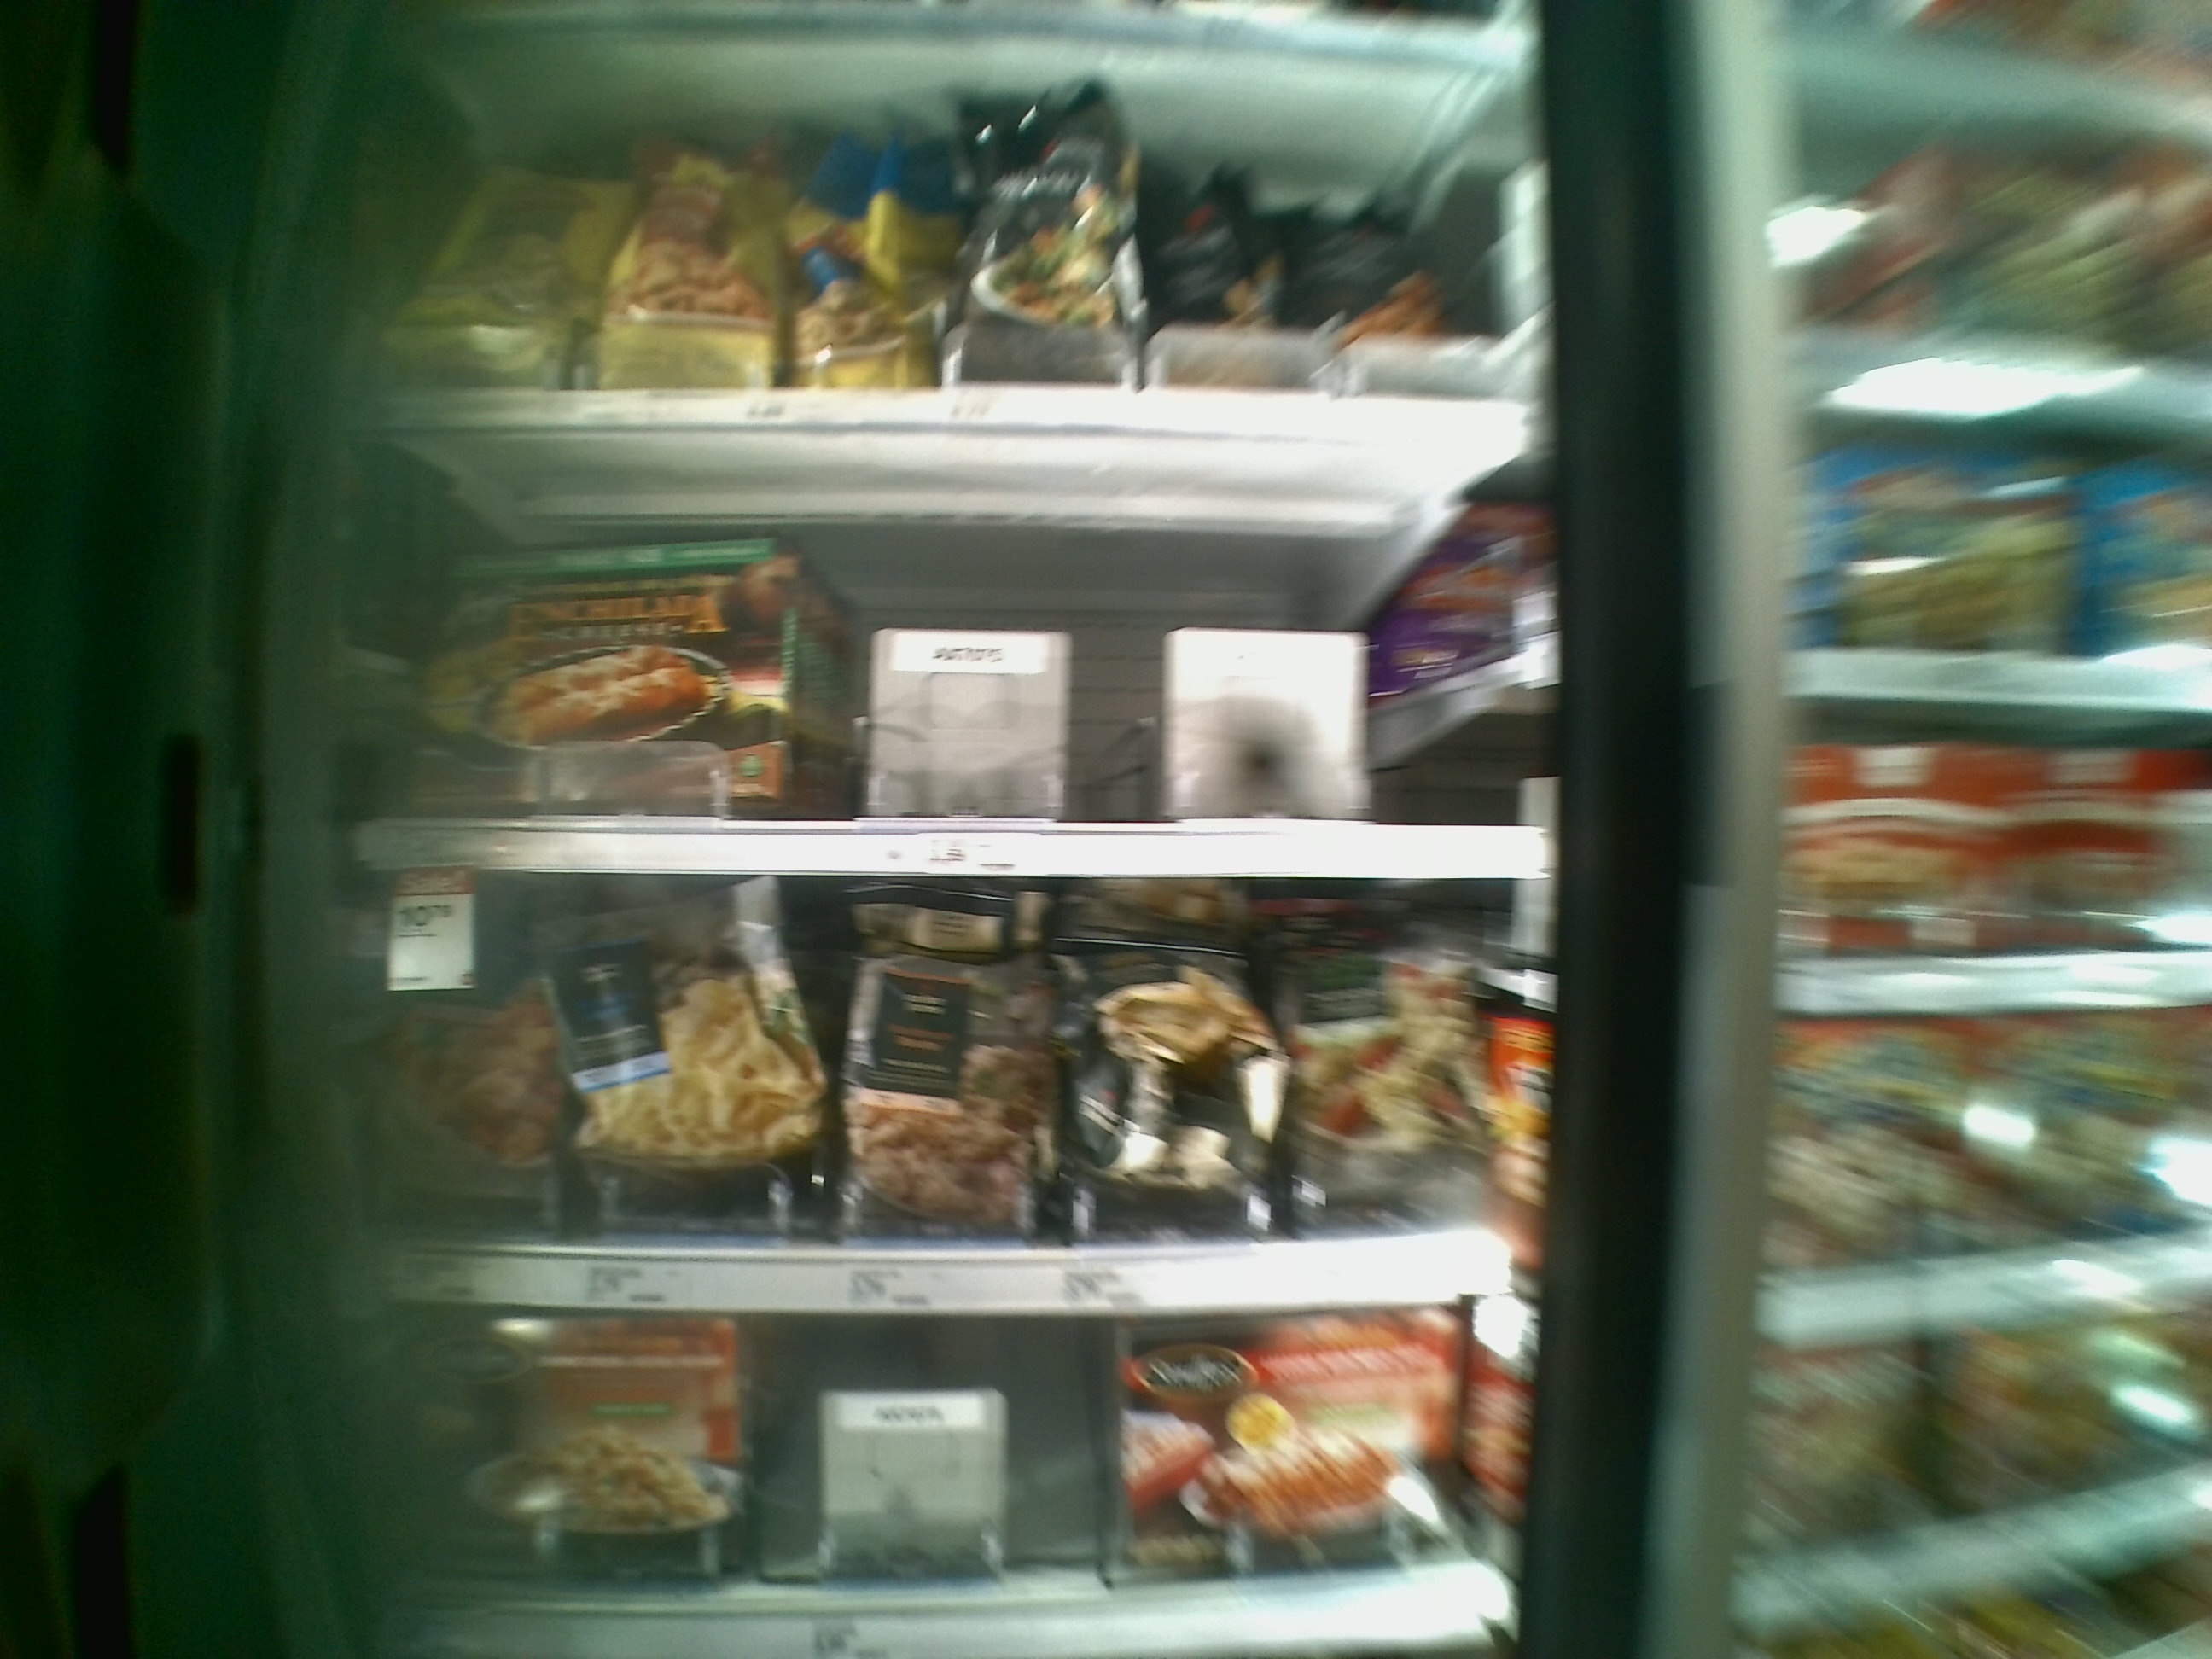shelf: (380, 17, 1533, 465), (359, 458, 1545, 882), (359, 885, 1540, 1305), (392, 1295, 1503, 1659)
